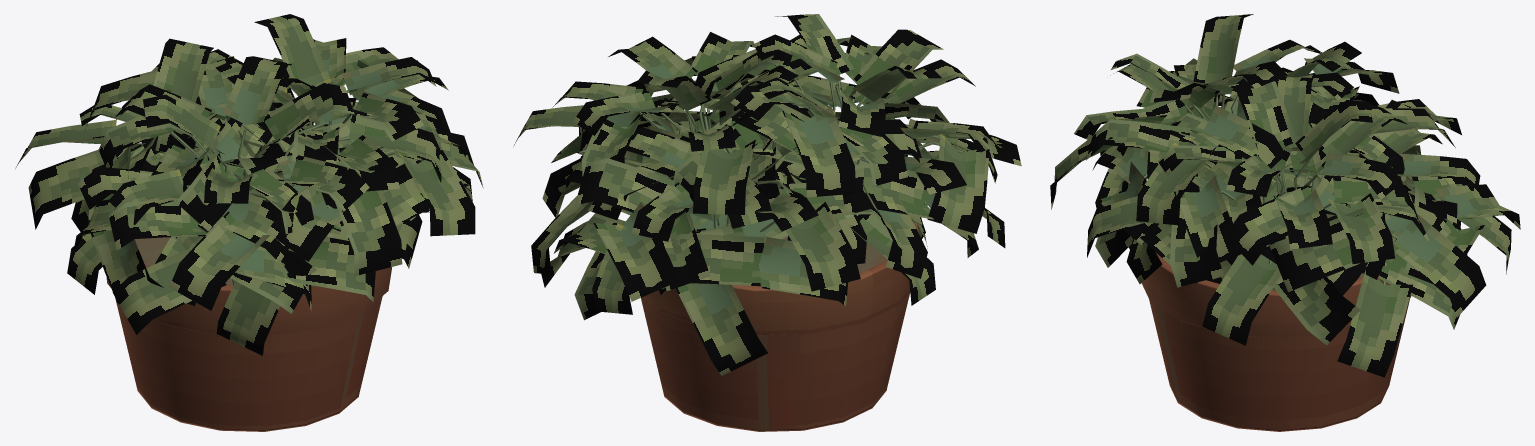
Rendered from a_com_house_a01_plant02_brown.gltf.
3 views of the same model, side by side, from view 1: azimuth 30°, elevation 25°; view 2: azimuth 150°, elevation 25°; view 3: azimuth 270°, elevation 25° (orthographic). The views are drawn at different scales.
Visible parts, largest first — view 1: um_a_com_house_a01_plant02_model_a_com_house_a01_plant02_mod (×2); view 2: um_a_com_house_a01_plant02_model_a_com_house_a01_plant02_mod (×2); view 3: um_a_com_house_a01_plant02_model_a_com_house_a01_plant02_mod (×2).
Part boxes in pixels (x1,y1,x2,y2): um_a_com_house_a01_plant02_model_a_com_house_a01_plant02_mod (×2): (15,14,483,431); um_a_com_house_a01_plant02_model_a_com_house_a01_plant02_mod (×2): (514,14,1021,431); um_a_com_house_a01_plant02_model_a_com_house_a01_plant02_mod (×2): (1050,14,1520,431).
Bounding box in the file's own units: 0.5841 × 0.4566 × 0.6052.
Materials: 2 (2 with a texture image).
